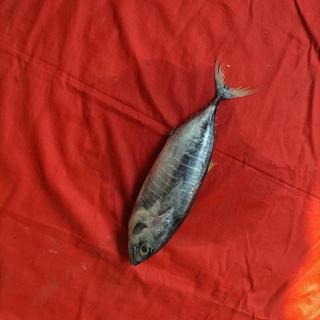Ikan: (110, 51, 269, 271)
